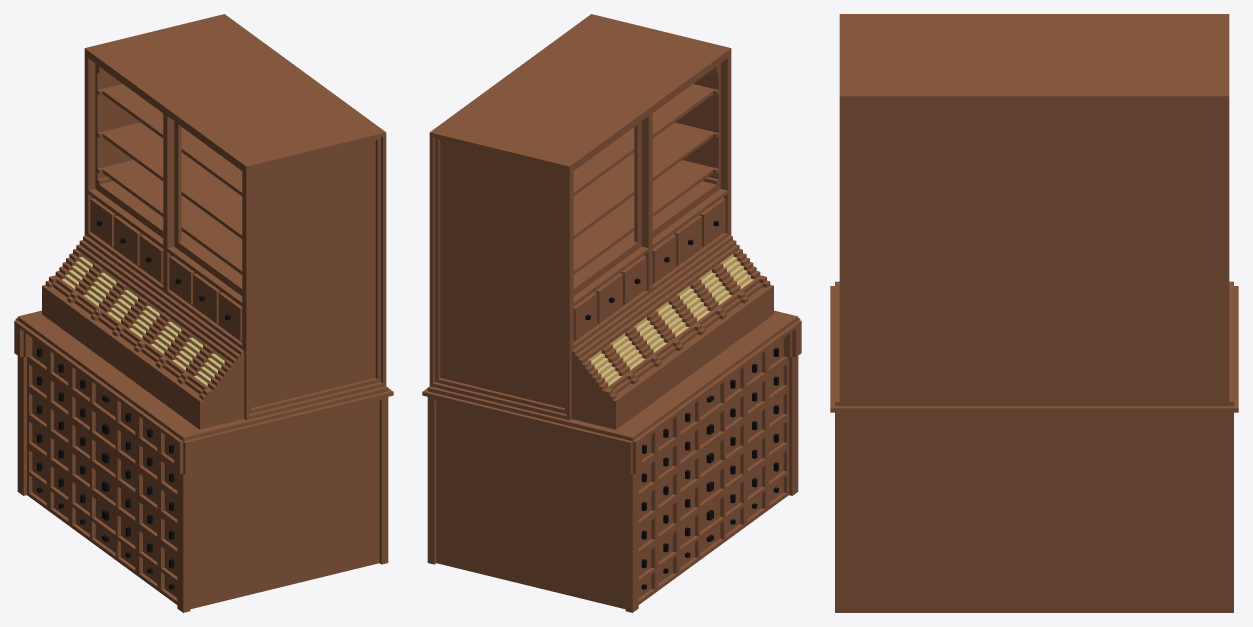
Rendered from ArmoirPharma-2.obj.
3 views of the same model, side by side, from view 1: azimuth 30°, elevation 25°; view 2: azimuth 150°, elevation 25°; view 3: azimuth 270°, elevation 25° (orthographic). The views are drawn at different scales.
Size of the model in its own units: 6.2 by 12 by 8.6.
1 material, 1 textured.
